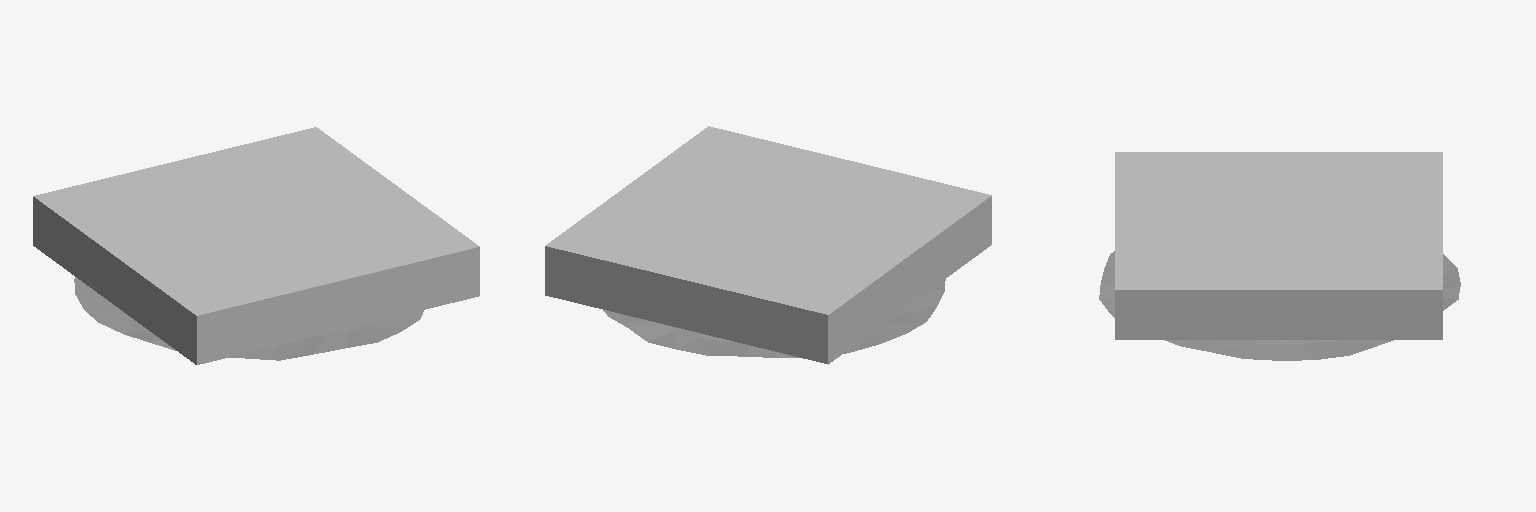
Rendered from zm_buy_marker.obj.
3 views of the same model, side by side, from view 1: azimuth 30°, elevation 25°; view 2: azimuth 150°, elevation 25°; view 3: azimuth 270°, elevation 25° (orthographic).
Visible parts, largest first — view 1: c_c, g_scroll; view 2: c_c, g_scroll; view 3: c_c, g_scroll.
Part boxes in pixels (left/top/right/bottom): c_c: left=33, top=127, right=479, bottom=364; g_scroll: left=74, top=277, right=423, bottom=360; c_c: left=545, top=126, right=991, bottom=364; g_scroll: left=603, top=279, right=945, bottom=357; c_c: left=1115, top=152, right=1442, bottom=339; g_scroll: left=1099, top=251, right=1460, bottom=360.
Bounding box in the file's own units: 67.08 × 14.14 × 66.28.